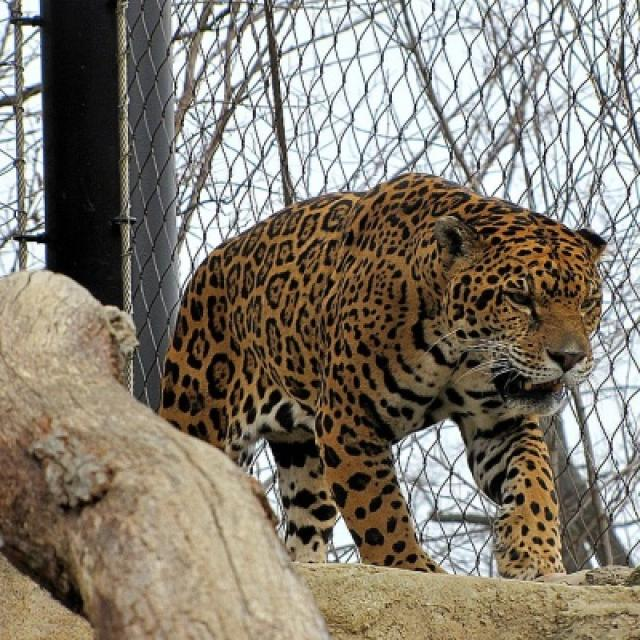Jaguar: (160, 171, 608, 579)
